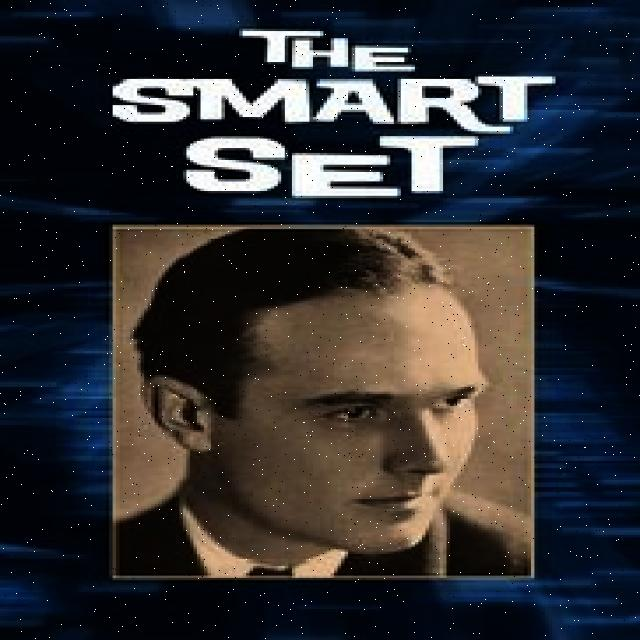movie-judul: (98, 18, 559, 208)
picture: (114, 227, 532, 574)
